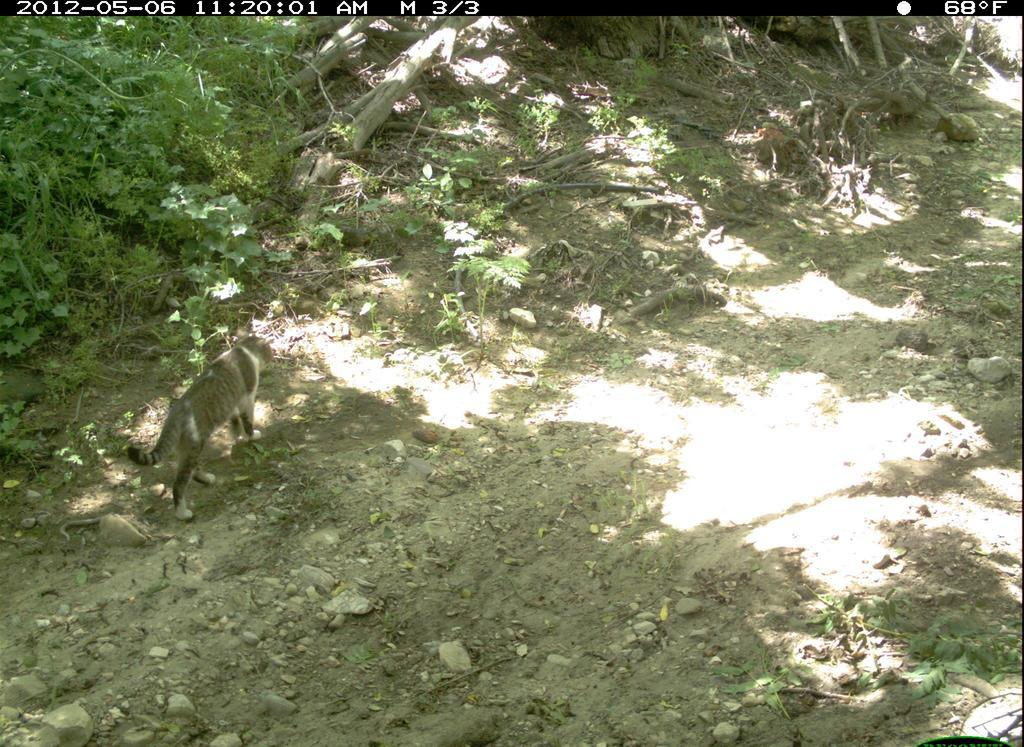cat: (125, 327, 277, 526)
